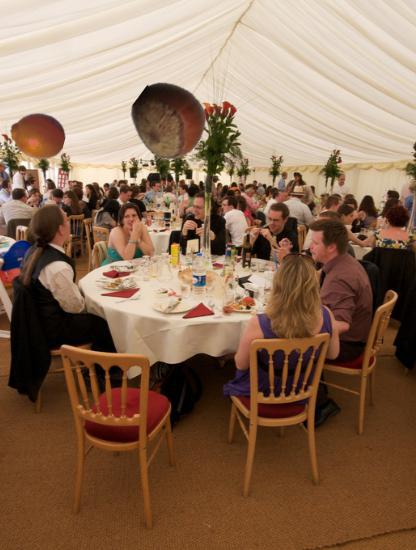Nut: (130, 83, 206, 159)
Tangelo: (10, 108, 66, 164)
